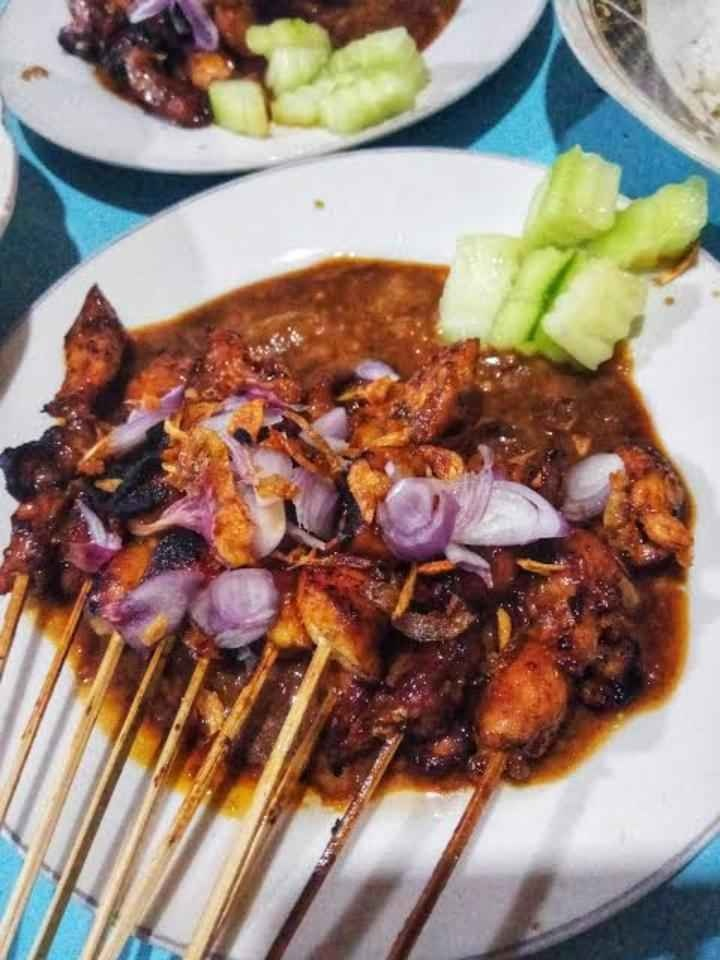sate_madura: (12, 317, 720, 960)
